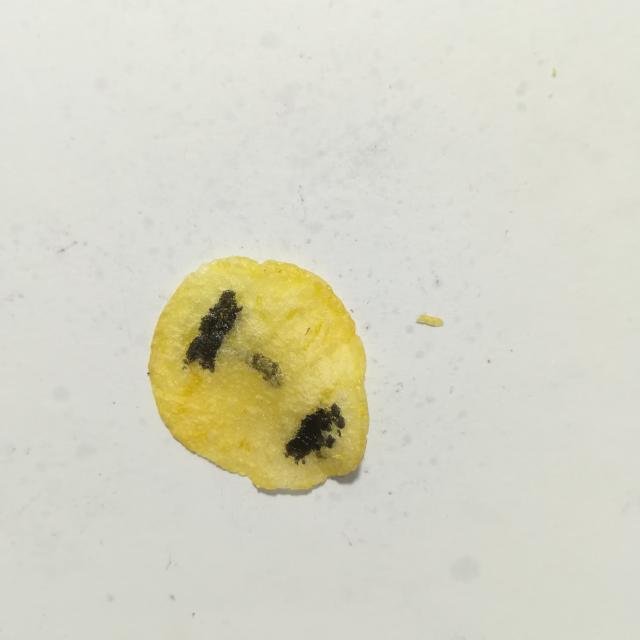chip: (148, 257, 369, 489)
damaged: (184, 290, 242, 372), (286, 403, 345, 461), (337, 429, 341, 437), (182, 365, 188, 370)
semi-damaged: (215, 310, 283, 387)
